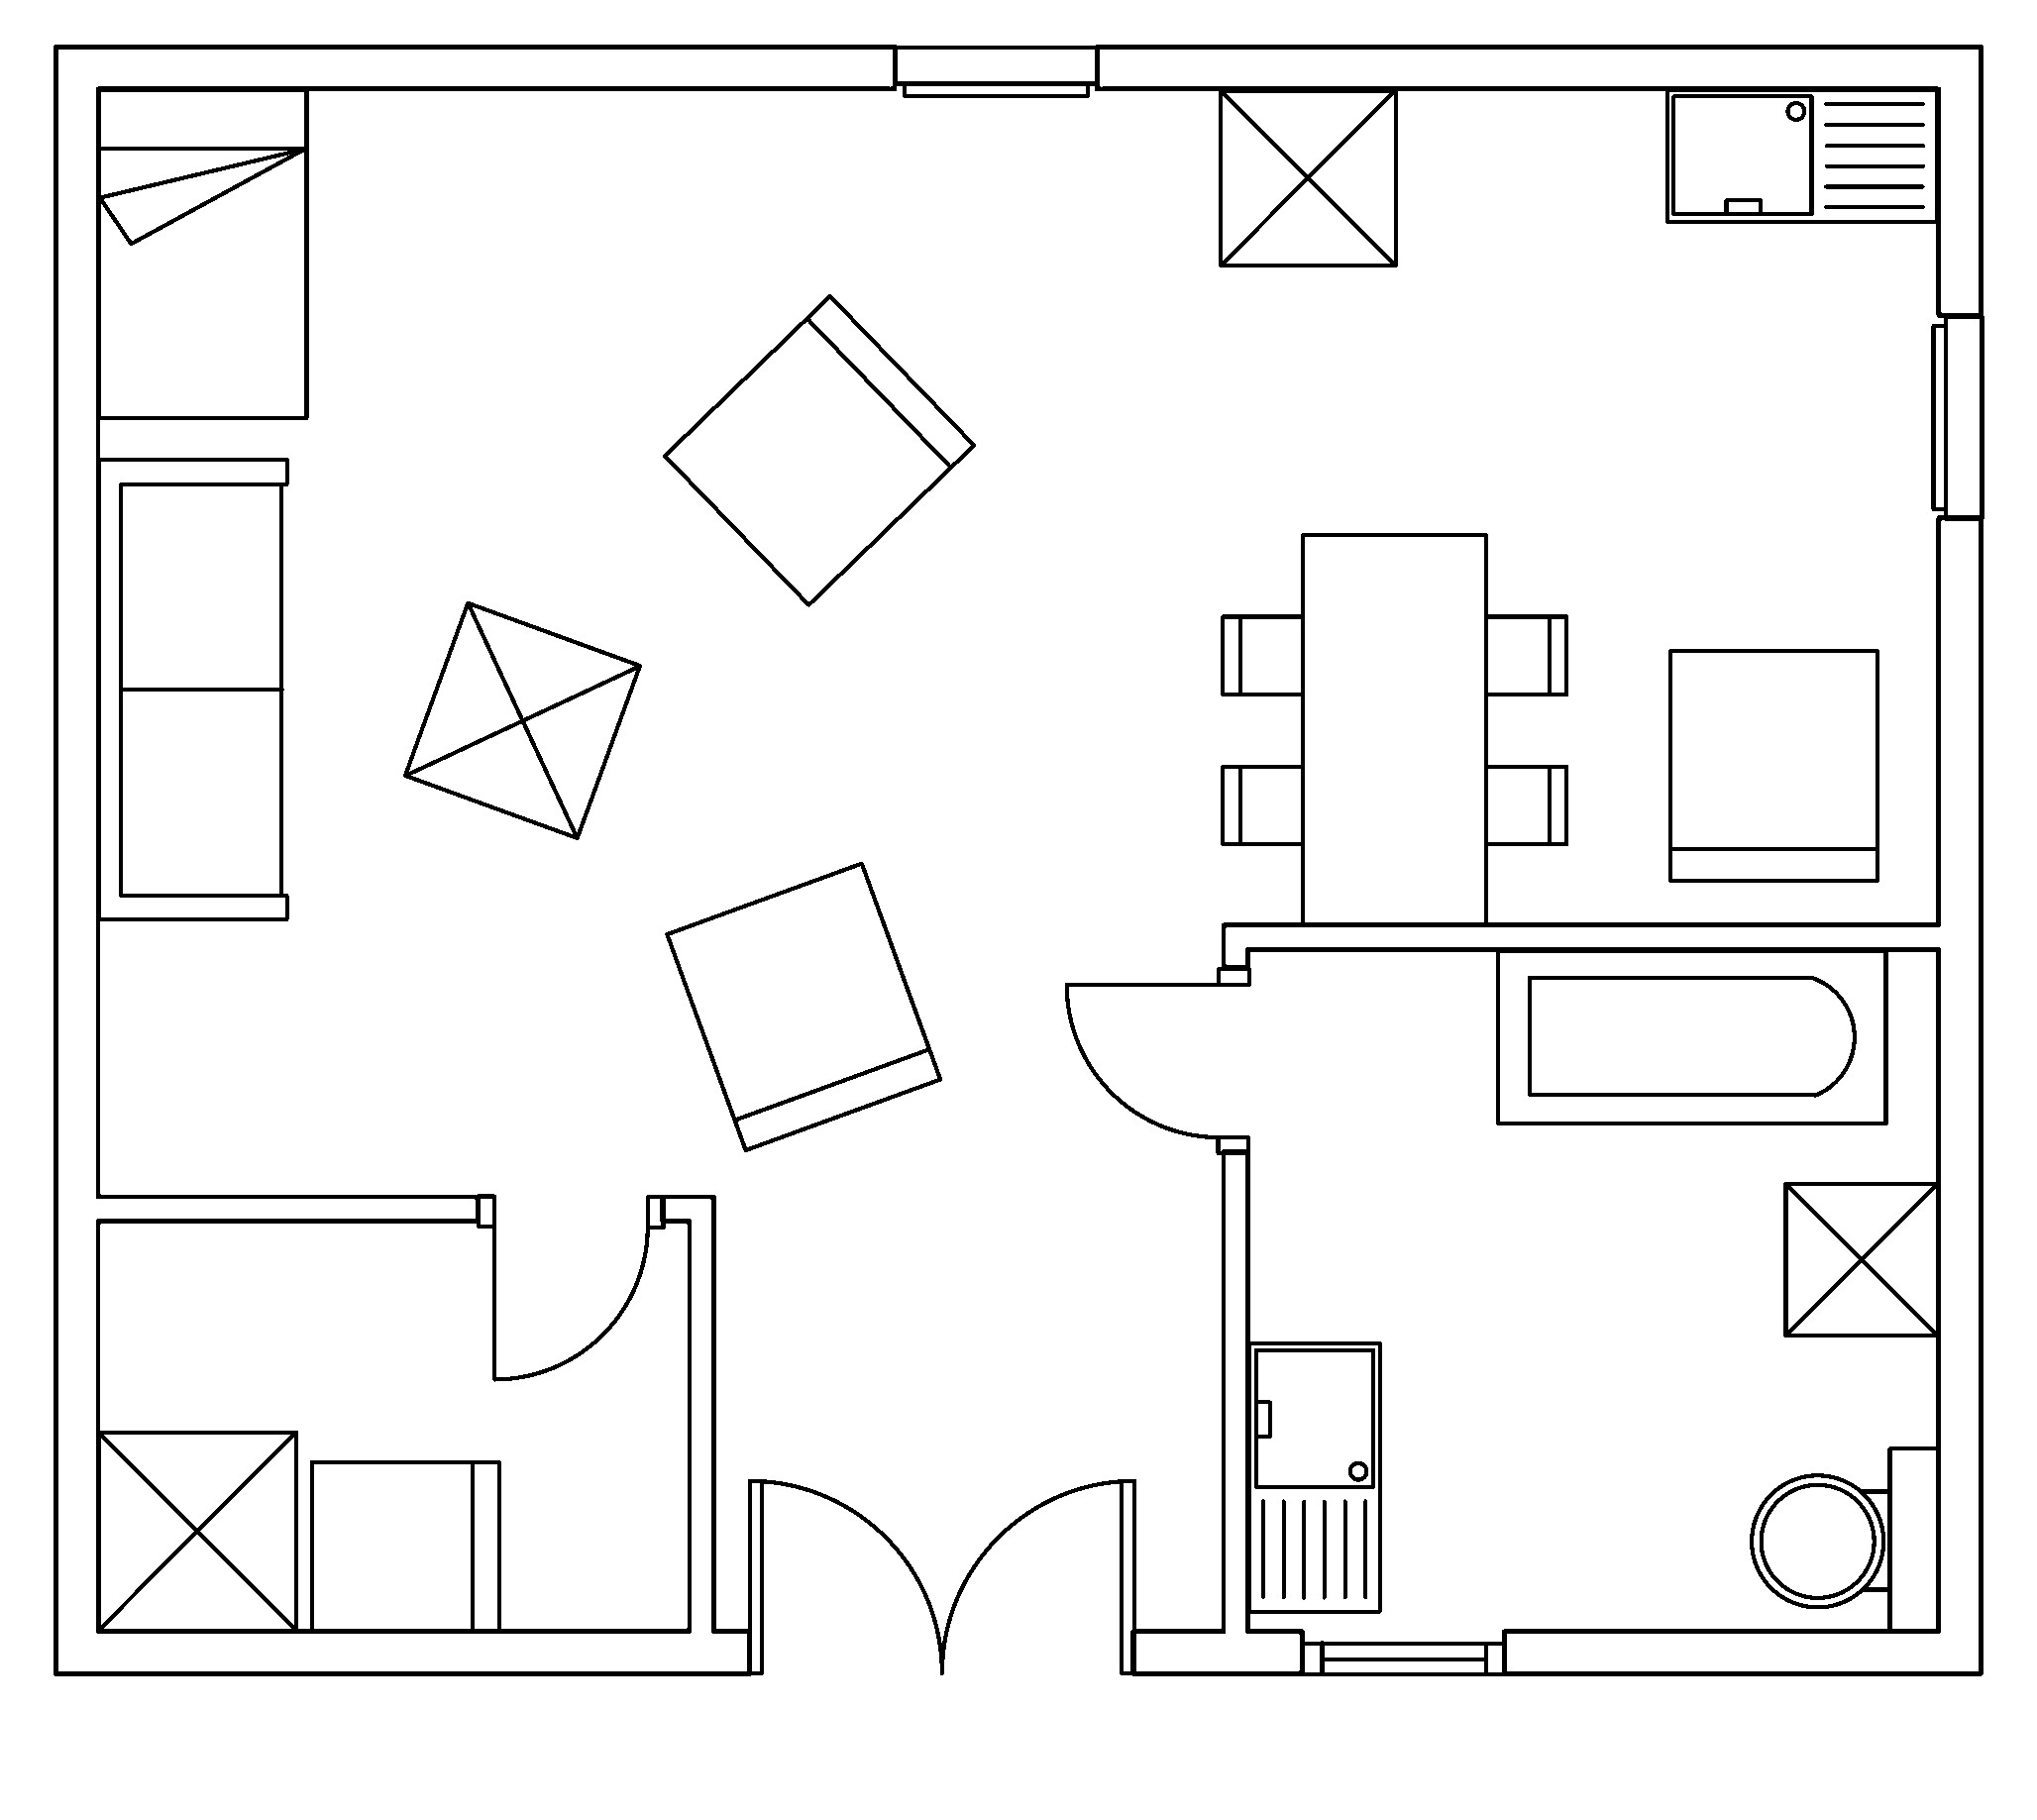bed: (95, 86, 309, 420)
coffee_table: (402, 599, 643, 841), (95, 1428, 299, 1632), (1217, 86, 1398, 267), (1781, 1181, 1940, 1337)
dining_table: (1219, 531, 1568, 926)
large_sink: (1749, 1444, 1940, 1632)
large_sofa: (95, 455, 290, 921)
sink: (1663, 86, 1940, 223), (1245, 1339, 1382, 1614)
small_sofa: (660, 292, 976, 608), (662, 859, 943, 1152), (1666, 646, 1879, 882), (307, 1458, 500, 1632)
tub: (1494, 947, 1888, 1126)
